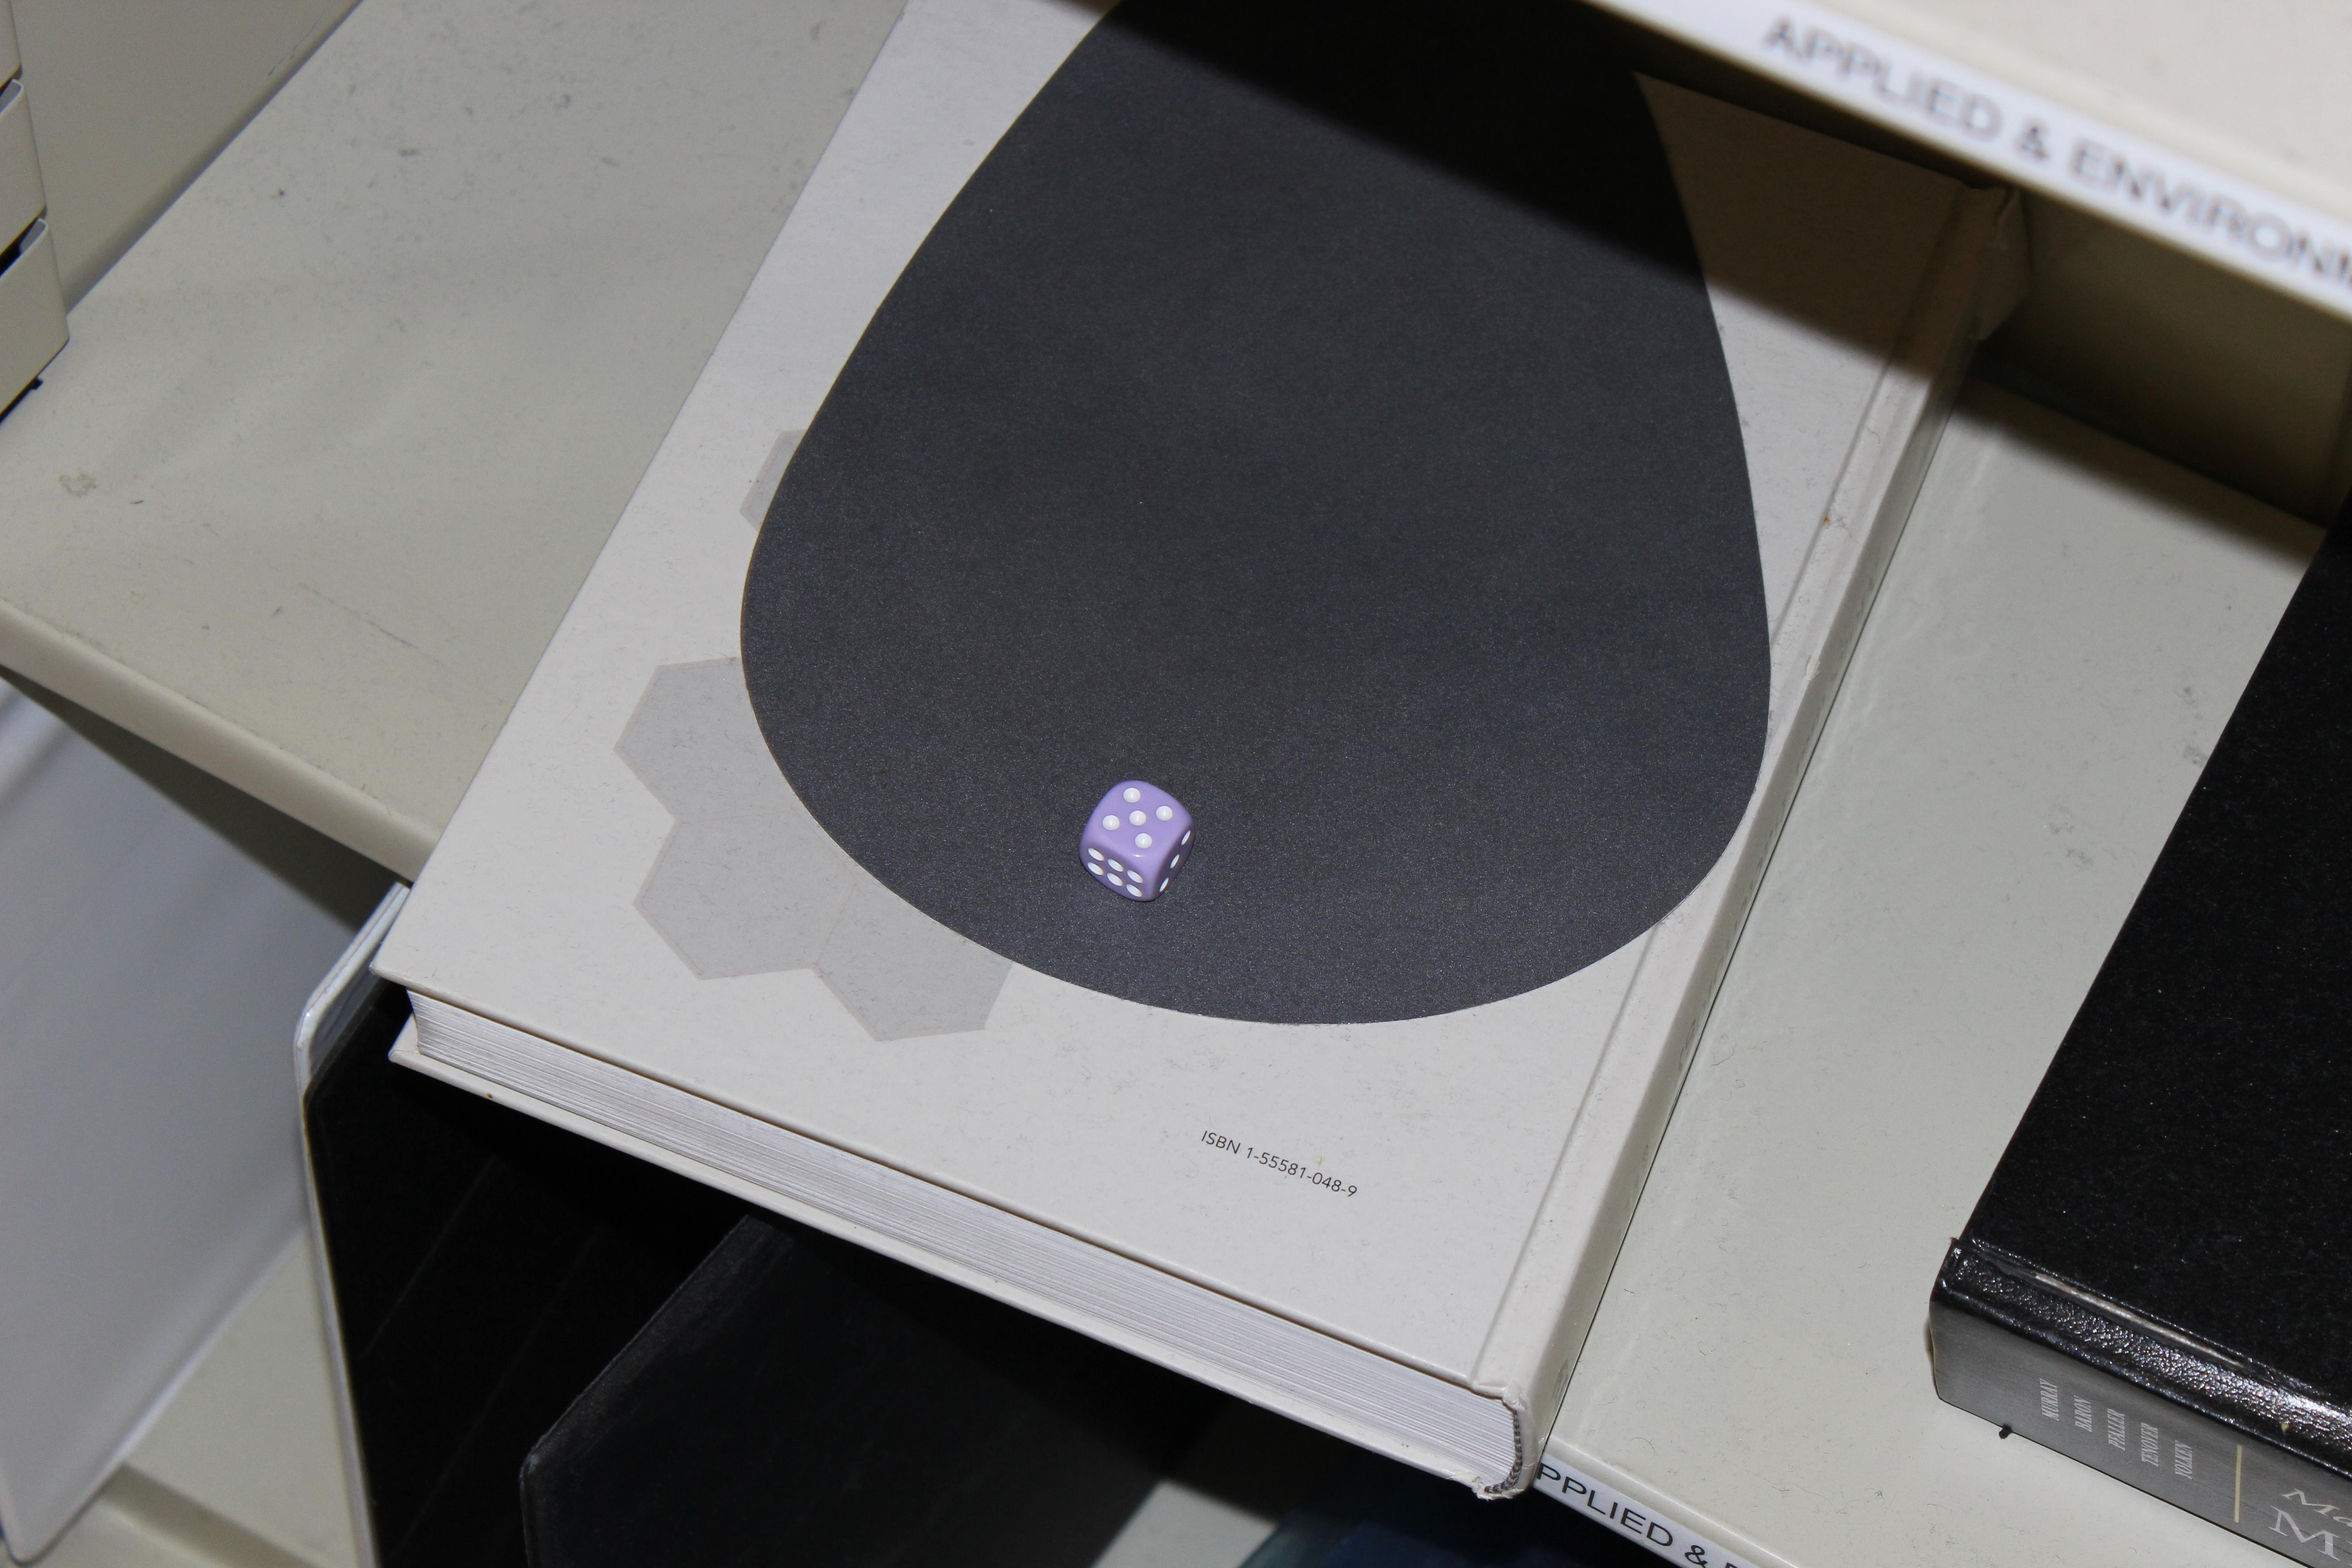lavenderDie: (1053, 758, 1211, 920)
